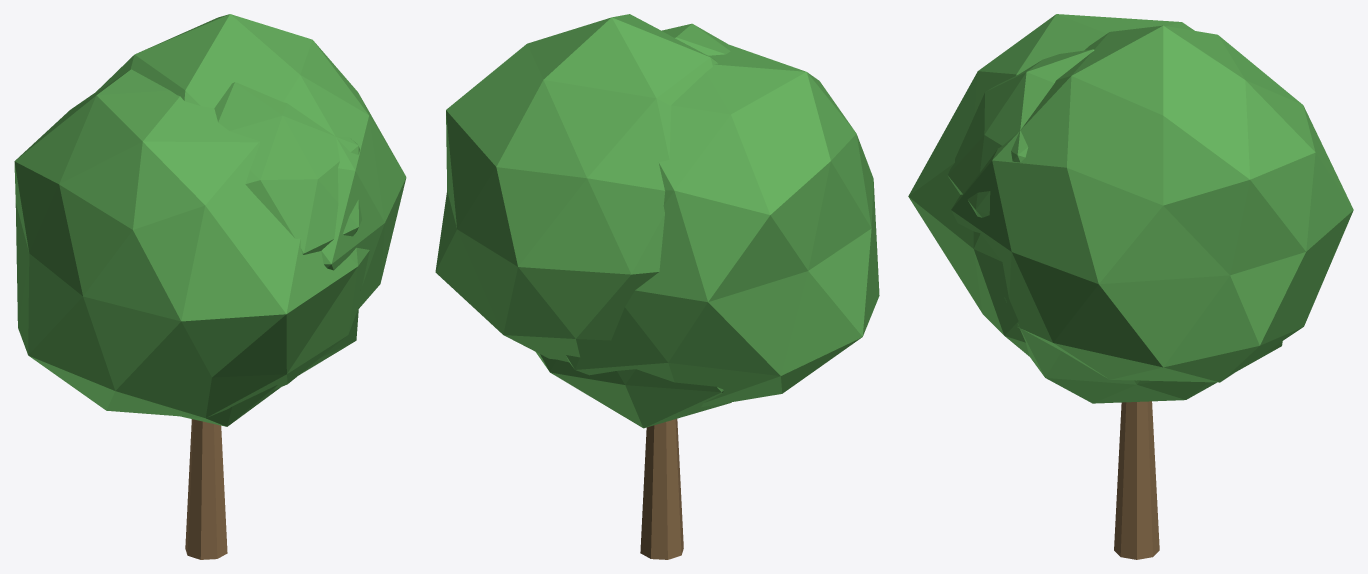
The model's file is oak_tree_1.glb.
3 renders of one model, left to right at view 1: azimuth 30°, elevation 25°; view 2: azimuth 150°, elevation 25°; view 3: azimuth 270°, elevation 25°, orthographic. The views are drawn at different scales.
Visible parts, largest first — view 1: oak_tree_1_canopy_2, oak_tree_1_canopy_1, oak_tree_1_canopy_3, oak_tree_1_trunk, oak_tree_1_canopy_0; view 2: oak_tree_1_canopy_2, oak_tree_1_canopy_1, oak_tree_1_canopy_0, oak_tree_1_trunk, oak_tree_1_canopy_3; view 3: oak_tree_1_canopy_1, oak_tree_1_canopy_2, oak_tree_1_canopy_3, oak_tree_1_trunk, oak_tree_1_canopy_0.
Part boxes in pixels (box(x1,y1,x2,y2)): oak_tree_1_canopy_2: box(14, 69, 369, 418); oak_tree_1_canopy_1: box(94, 14, 406, 309); oak_tree_1_canopy_3: box(214, 82, 361, 254); oak_tree_1_trunk: box(185, 419, 227, 559); oak_tree_1_canopy_0: box(180, 290, 360, 426); oak_tree_1_canopy_2: box(566, 43, 879, 407); oak_tree_1_canopy_1: box(435, 14, 717, 362); oak_tree_1_canopy_0: box(536, 352, 731, 428); oak_tree_1_trunk: box(640, 419, 683, 559); oak_tree_1_canopy_3: box(662, 23, 730, 55); oak_tree_1_canopy_1: box(951, 25, 1353, 382); oak_tree_1_canopy_2: box(908, 14, 1194, 356); oak_tree_1_canopy_3: box(947, 49, 1094, 217); oak_tree_1_trunk: box(1114, 401, 1159, 559); oak_tree_1_canopy_0: box(1017, 323, 1282, 403).
Size of the model in its own units: 5.06 by 6.81 by 5.06.
